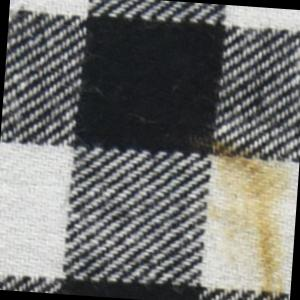Oil Stain: (175, 130, 300, 300)
